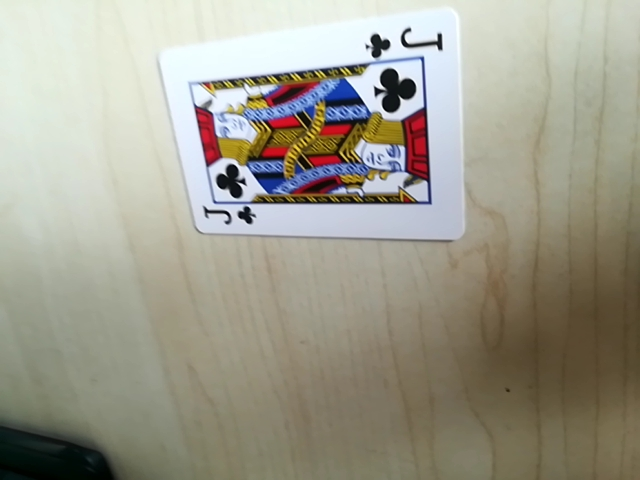mh j: (363, 22, 450, 60), (196, 198, 257, 231)
